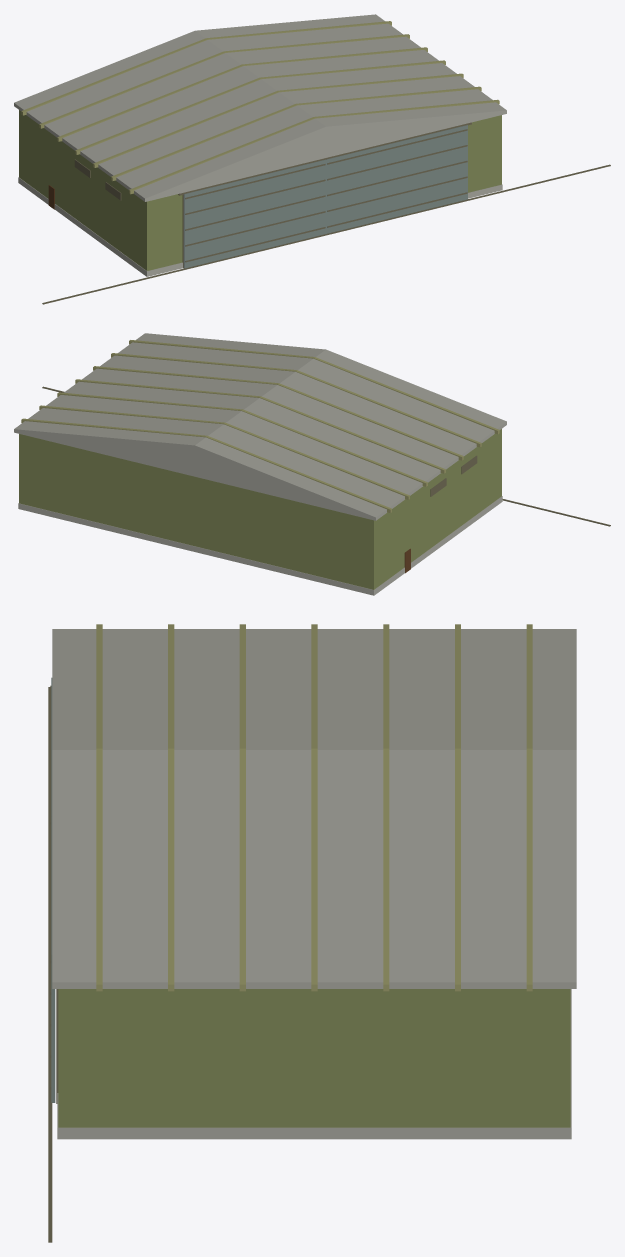
Rendered from SM_Hangar_v2_LOD0.fbx.
3 renders of one model, top to bottom at view 1: azimuth 30°, elevation 25°; view 2: azimuth 150°, elevation 25°; view 3: azimuth 270°, elevation 25°, orthographic. The views are drawn at different scales.
Parts seen in each view (by area): view 1: SM_hangar_v2_LOD0, Porton_O, Porton_E; view 2: SM_hangar_v2_LOD0; view 3: SM_hangar_v2_LOD0, Porton_E.
Part boxes in pixels (x1,y1,x2,y2): SM_hangar_v2_LOD0: (14, 14, 610, 304); Porton_O: (183, 159, 326, 268); Porton_E: (326, 125, 467, 233); SM_hangar_v2_LOD0: (14, 333, 610, 595); SM_hangar_v2_LOD0: (48, 624, 576, 1242); Porton_E: (50, 816, 55, 1102).
Bounding box in the file's own units: 64 × 11.68 × 25.8.
